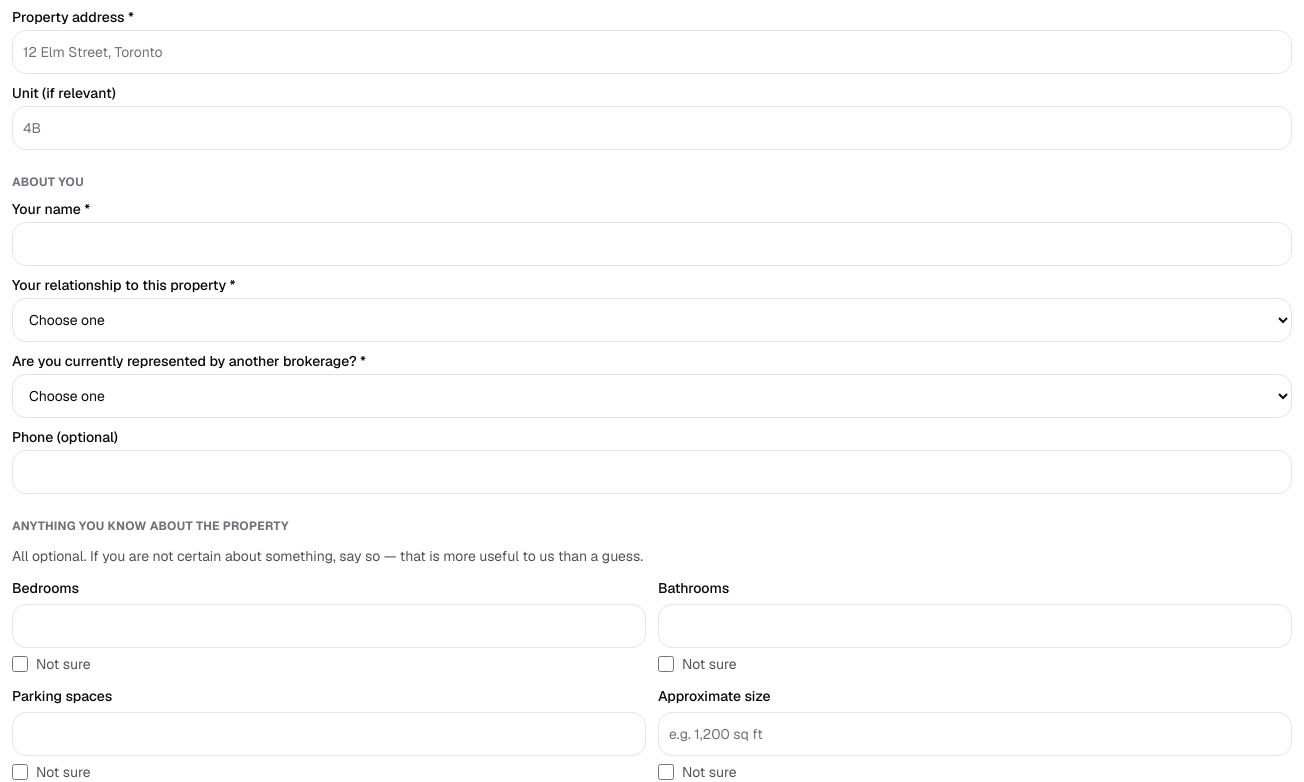
Test: the confirmation states that a person prepares the report and no date is given
In the field labelled "Property address *": (652, 52) [12, 30, 1292, 74], type "12 Elm Street"
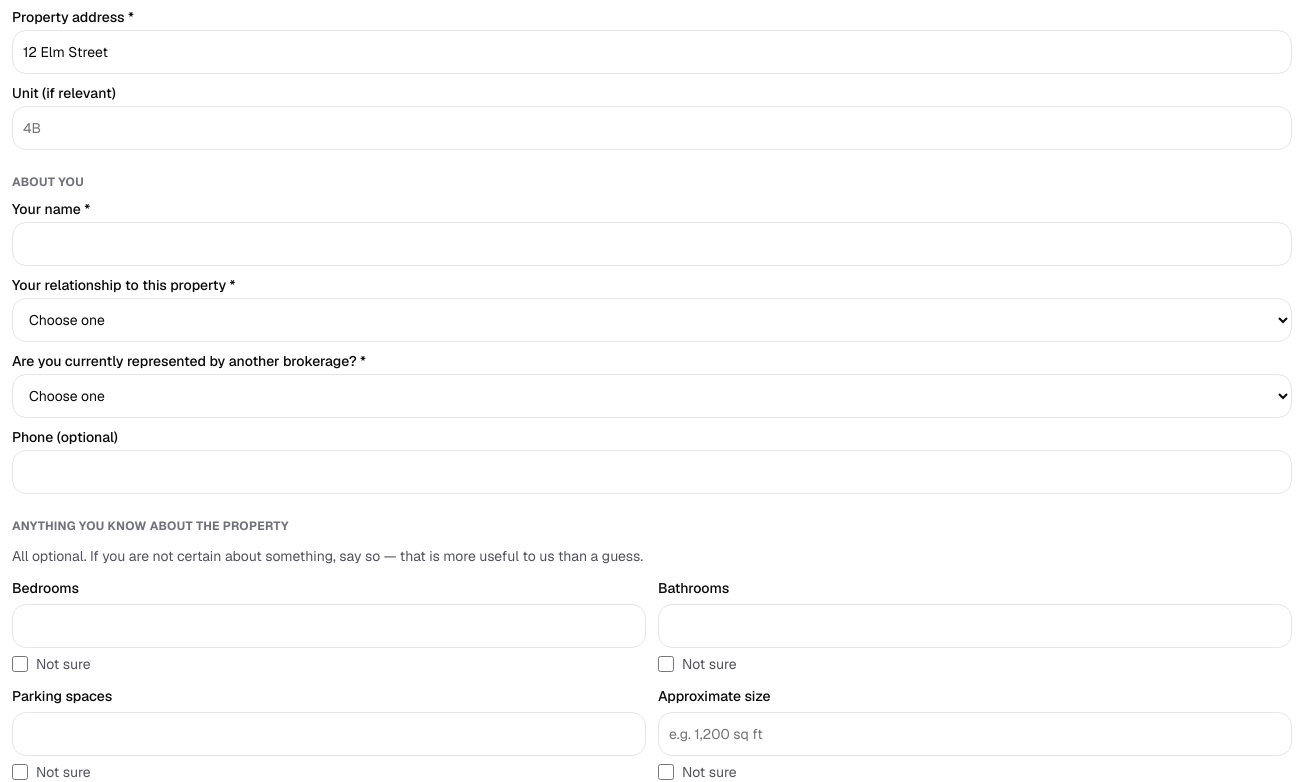
In the field labelled "Your name *": (652, 244) [12, 222, 1292, 266], type "Dana Okafor"
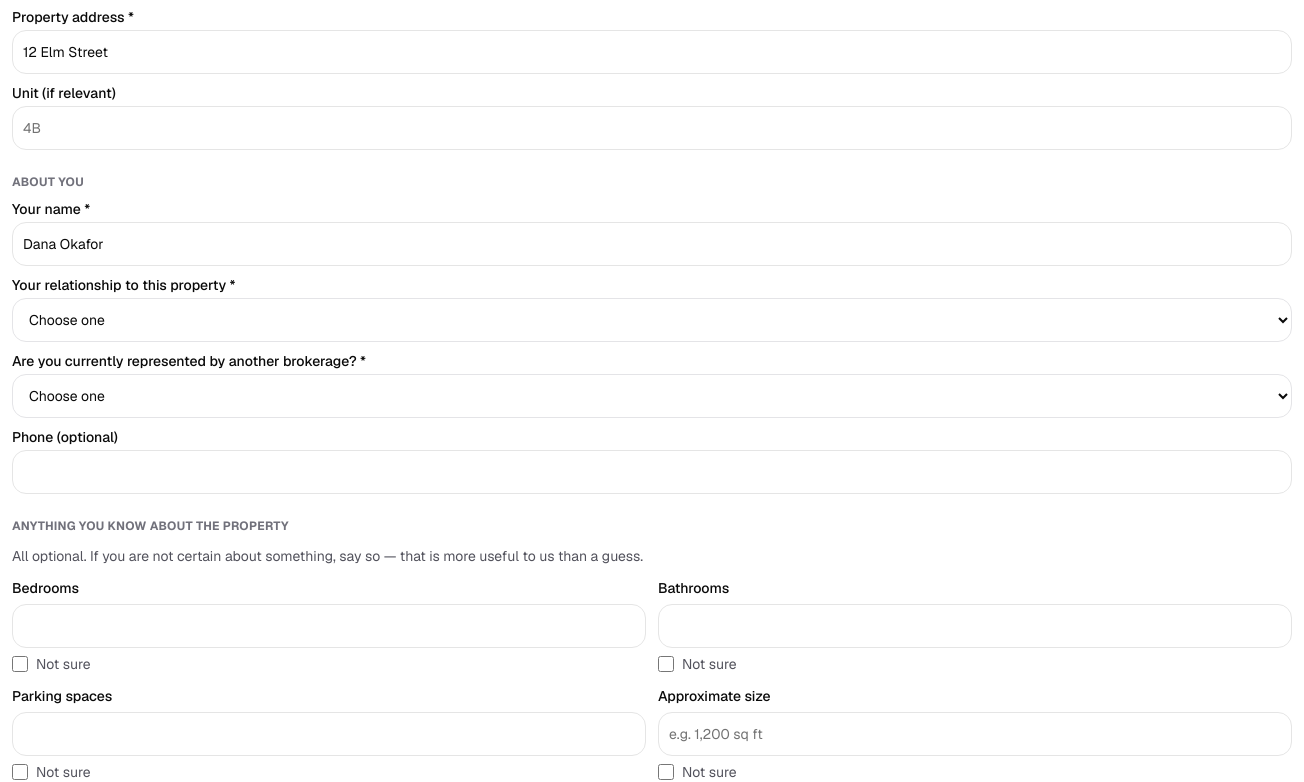
Select "I own it" in the dropdown labelled "Your relationship to this property *": (652, 320) [12, 298, 1292, 342]
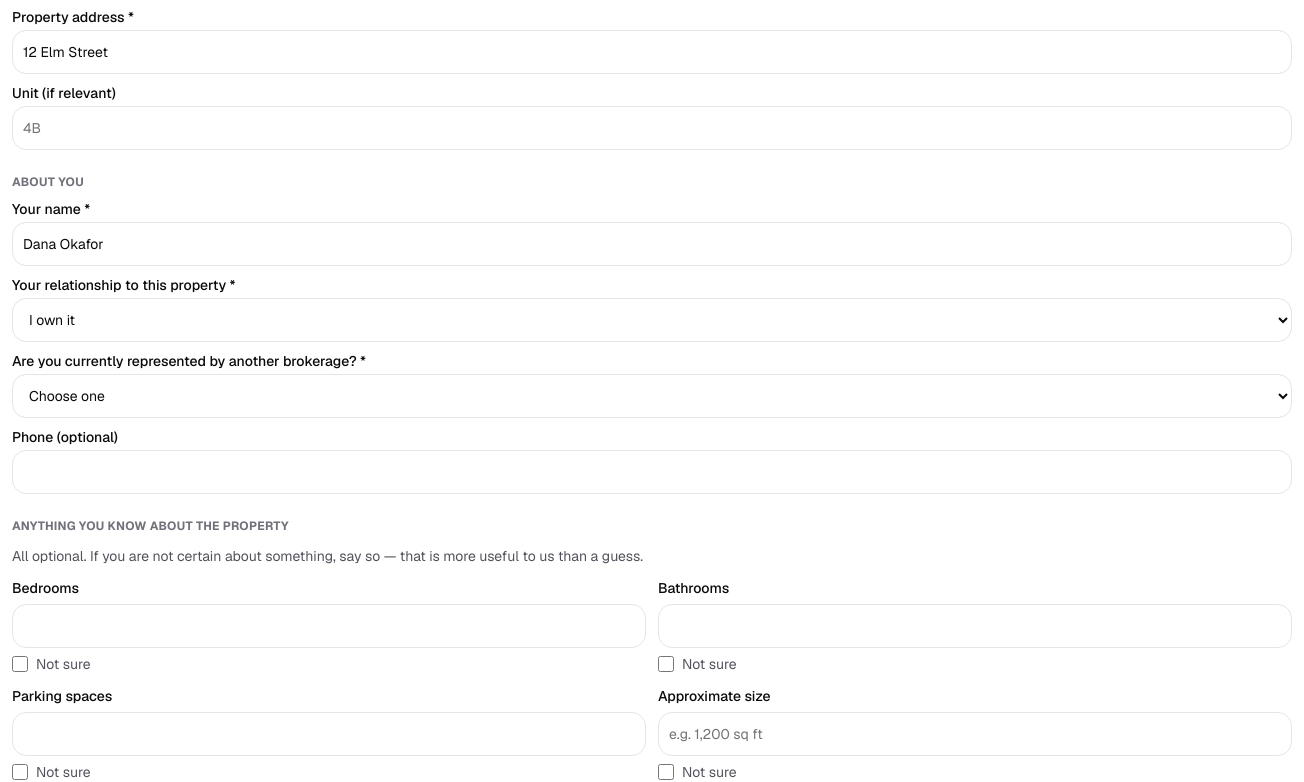
Select "Not sure" in the dropdown labelled "Are you currently represented by another brokerage? *": (652, 396) [12, 374, 1292, 418]
(page scrolled)
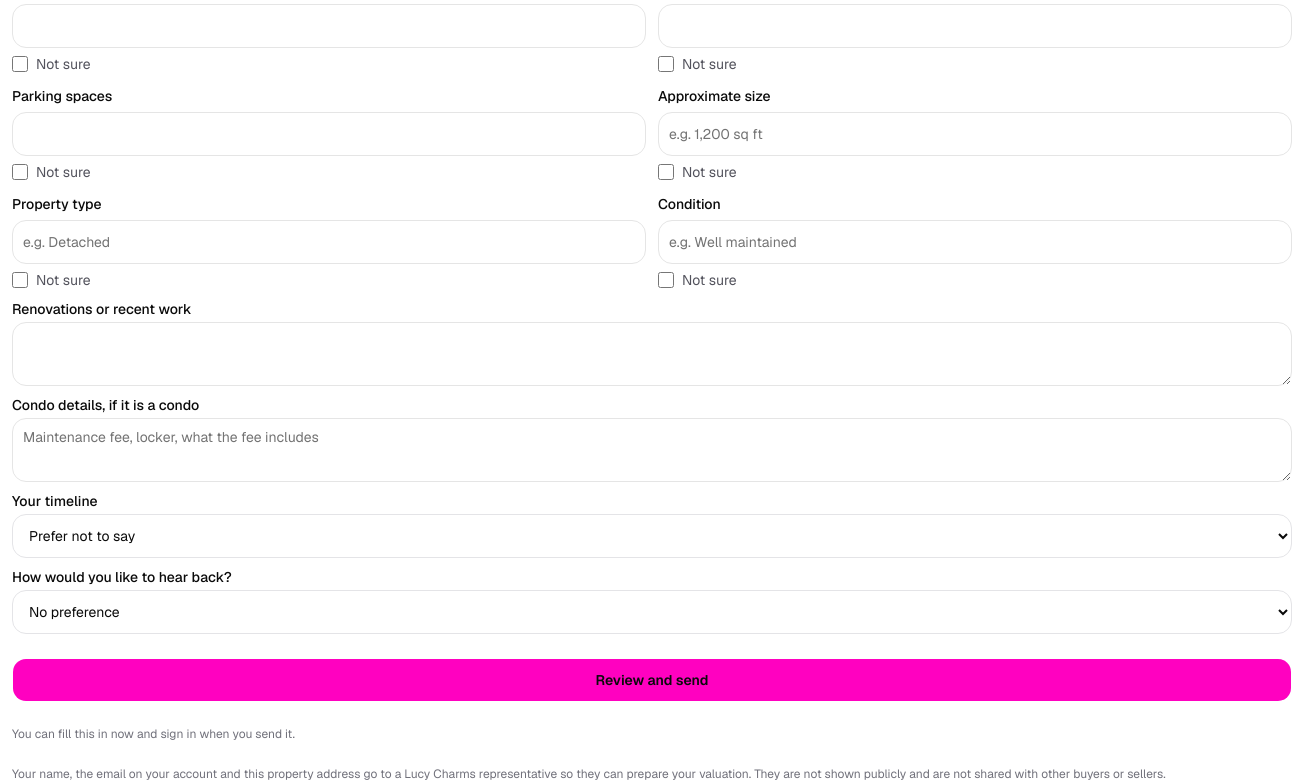
Click the button "Review and send": click(652, 680) [12, 658, 1292, 702]
(page scrolled)
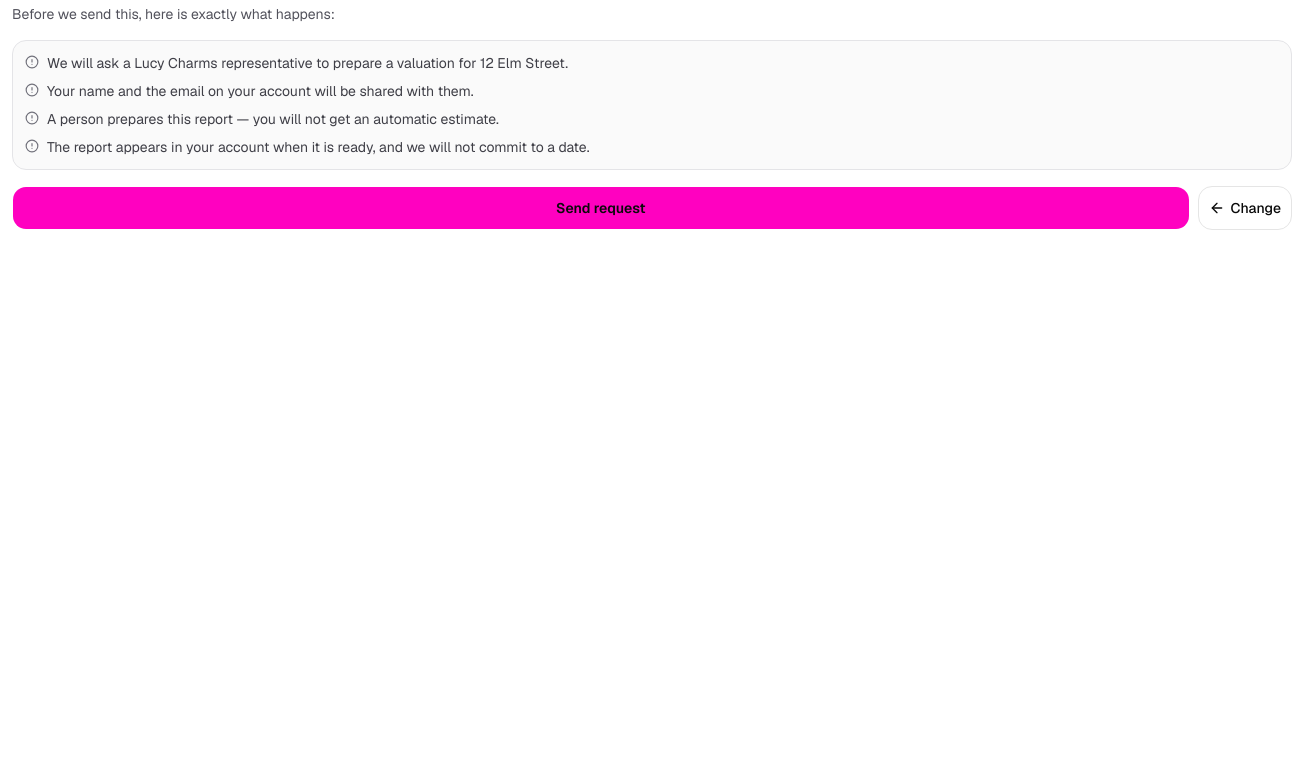
Expected: the text "A person prepares this report" is shown, [47, 110, 499, 128]
Expected: the text "not commit to a date" is shown, [47, 138, 590, 156]
